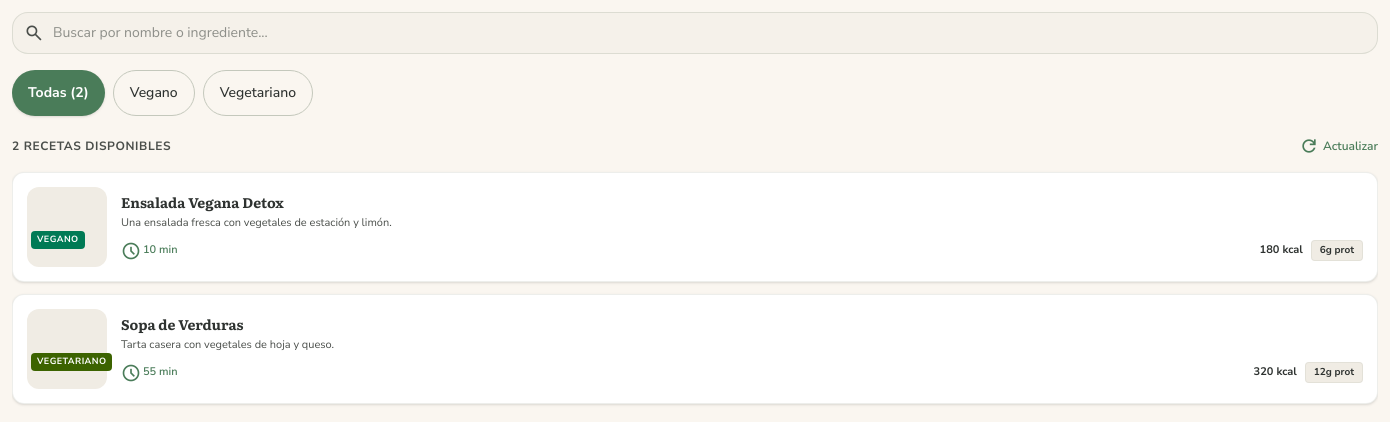
it: RecipeCatalogList › filters by ingredient name too, even when the search term matches no recipe title
The image size is (1390, 422).
Type "pollo" into the field labelled "Buscar por nombre o ingrediente..." at {"x": 695, "y": 33}, box [12,12,1378,54]
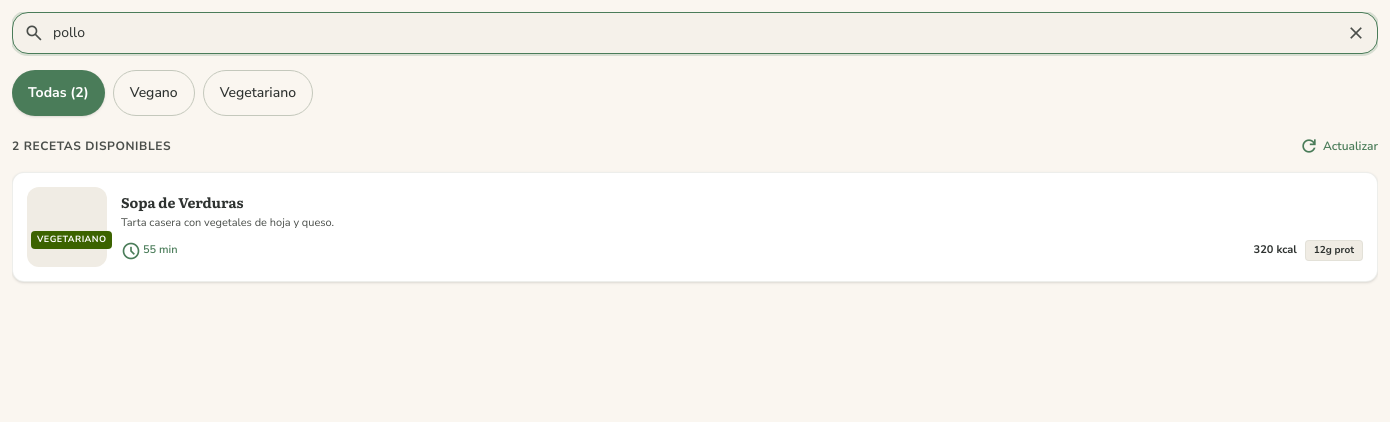
expect the heading "Sopa de Verduras" is shown: met, box [121,192,244,212]
expect the button "Ensalada Vegana Detox" is gone: met
